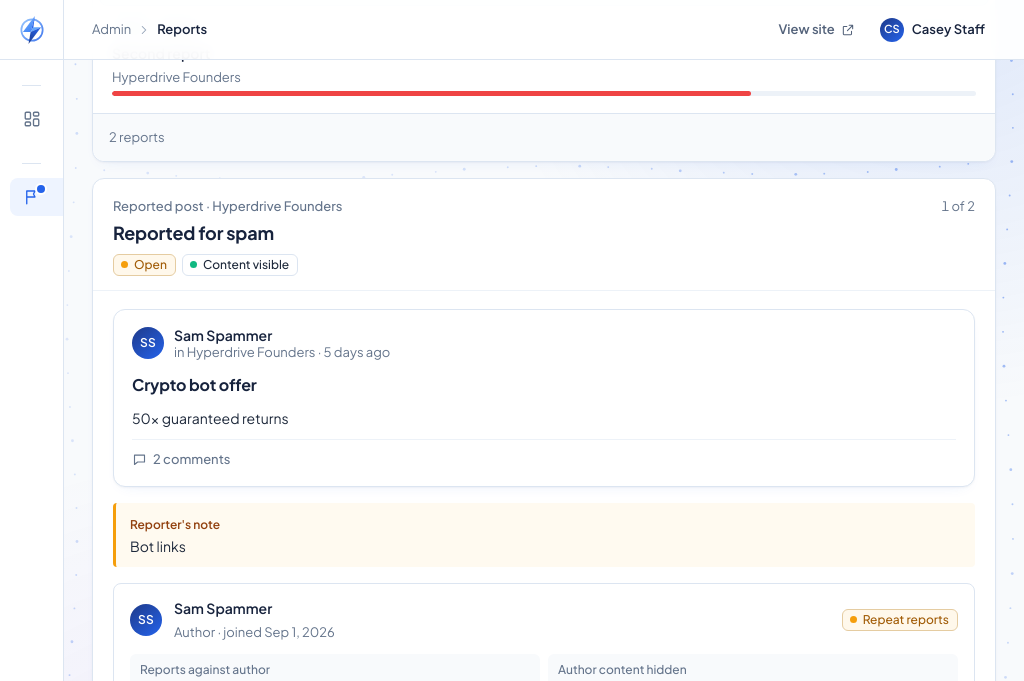
Test: console v2 › moves through the triage queue with J and K and opens actions with shortcuts
The image size is (1024, 681).
(page scrolled)
Expected: the heading "Crypto bot offer" is shown, [132,374,257,395]
Step 1. Type keys "j"
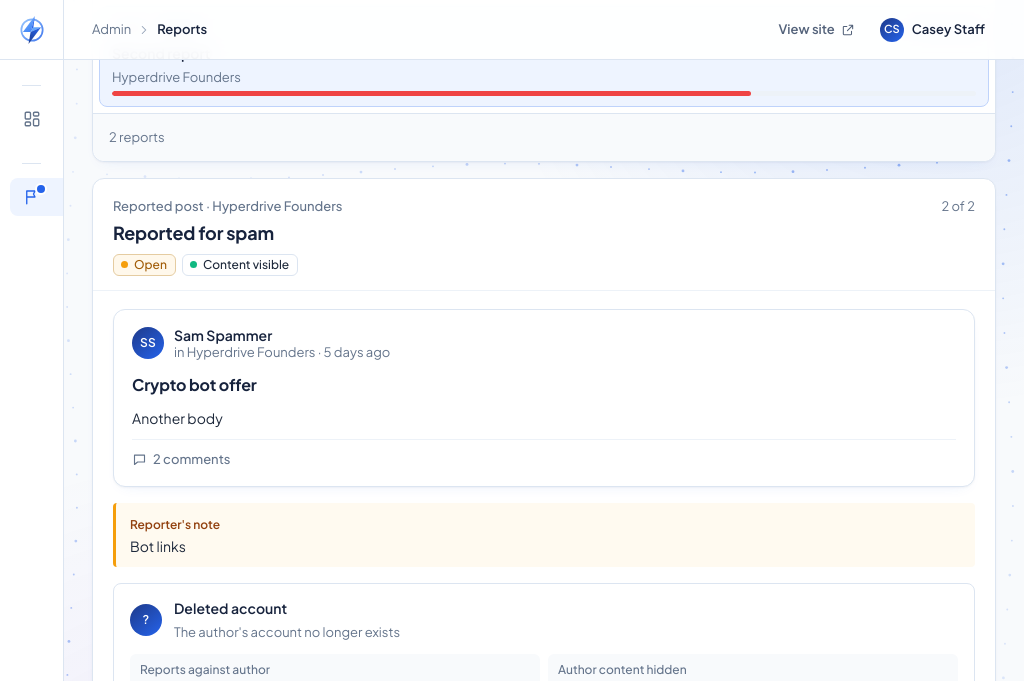
Result: the text "Another body" is shown at [132,409,223,427]
Result: the text "Deleted account" is shown at [174,598,287,619]
Step 2. Type keys "k"
(page scrolled)
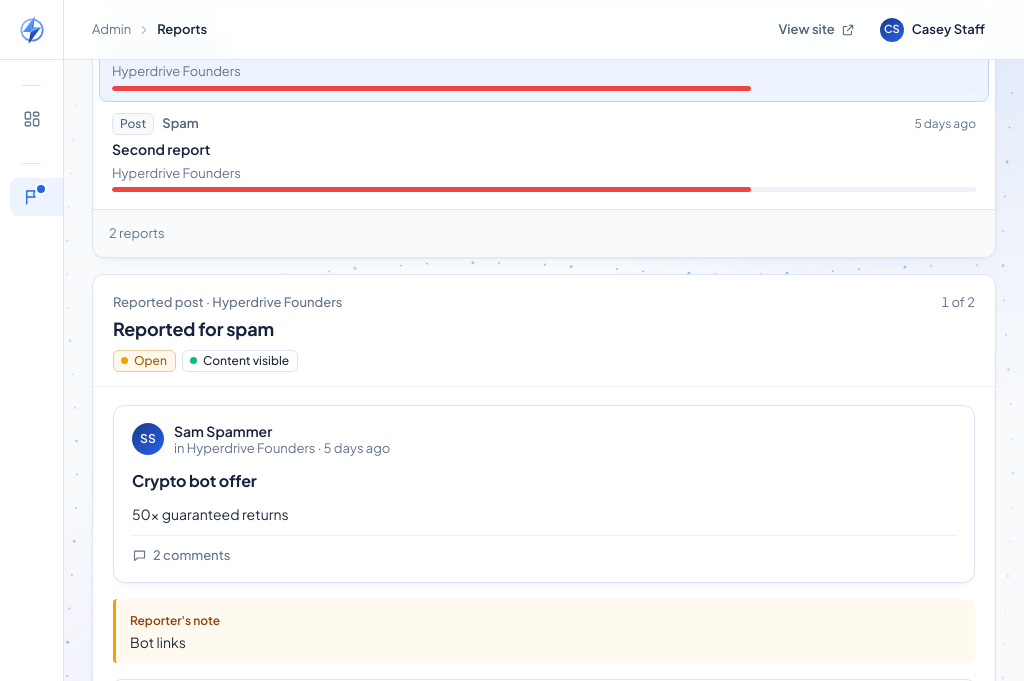
Result: the text "50x guaranteed returns" is shown at [132,505,289,523]
Result: the text "Another body" is gone
Step 3. Type keys "h"
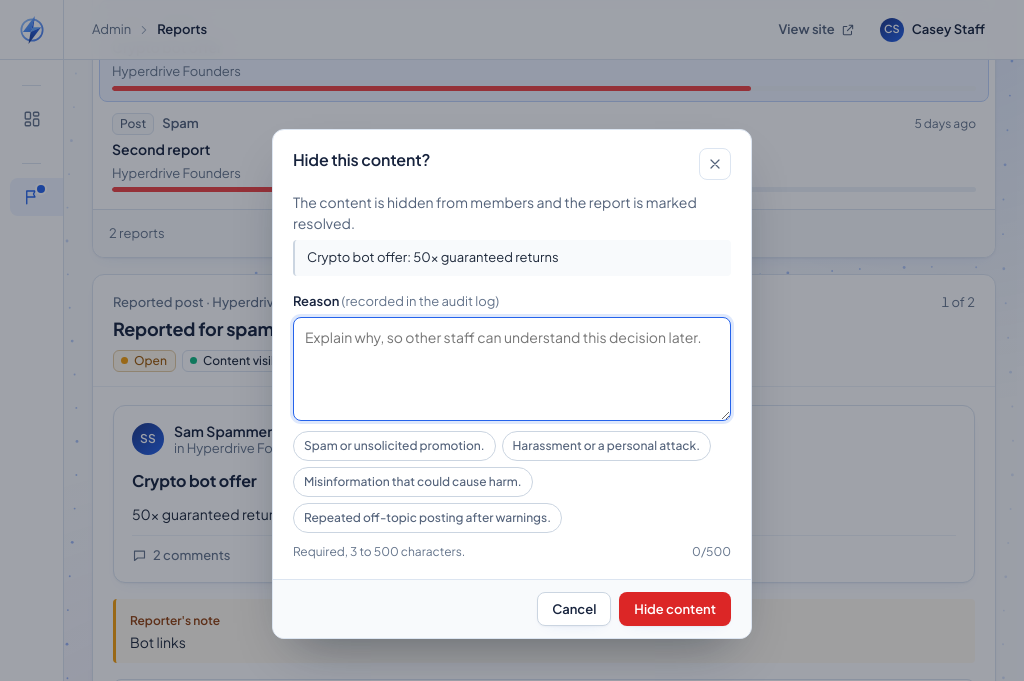
// Reason templates fill the reason in one click.
Step 4. Click the button "Spam or unsolicited promotion." → (394, 446), box [293,431,496,461]
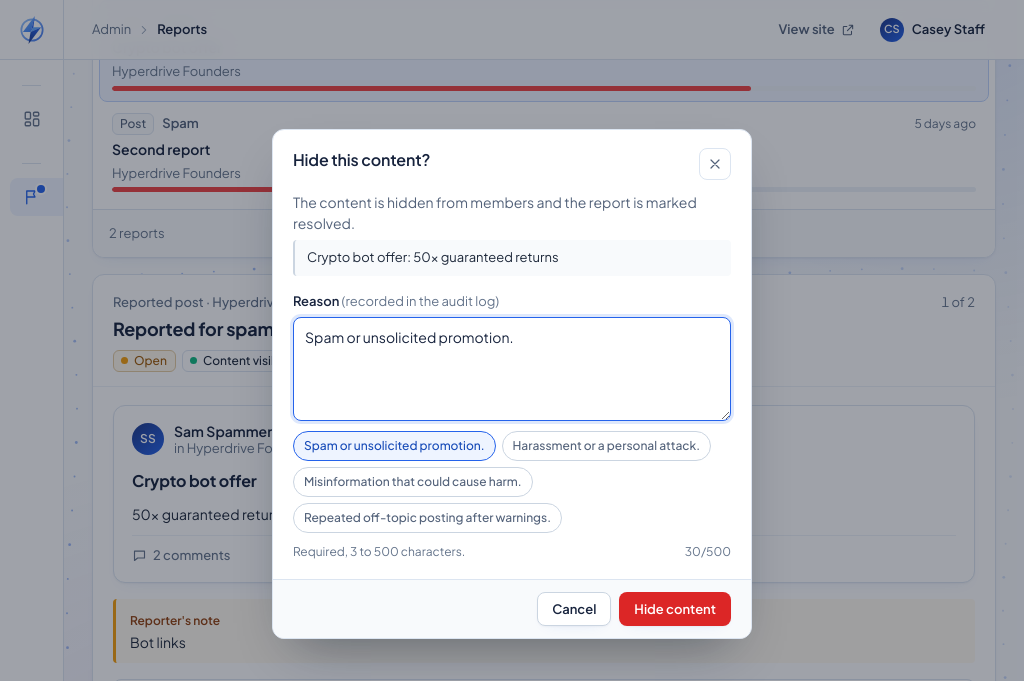
Result: the text box labelled "Reason (recorded in the audit log)" holds "Spam or unsolicited promotion." at [293,317,731,421]
// Shortcuts are ignored while a dialog is open.
Step 5. Press Escape
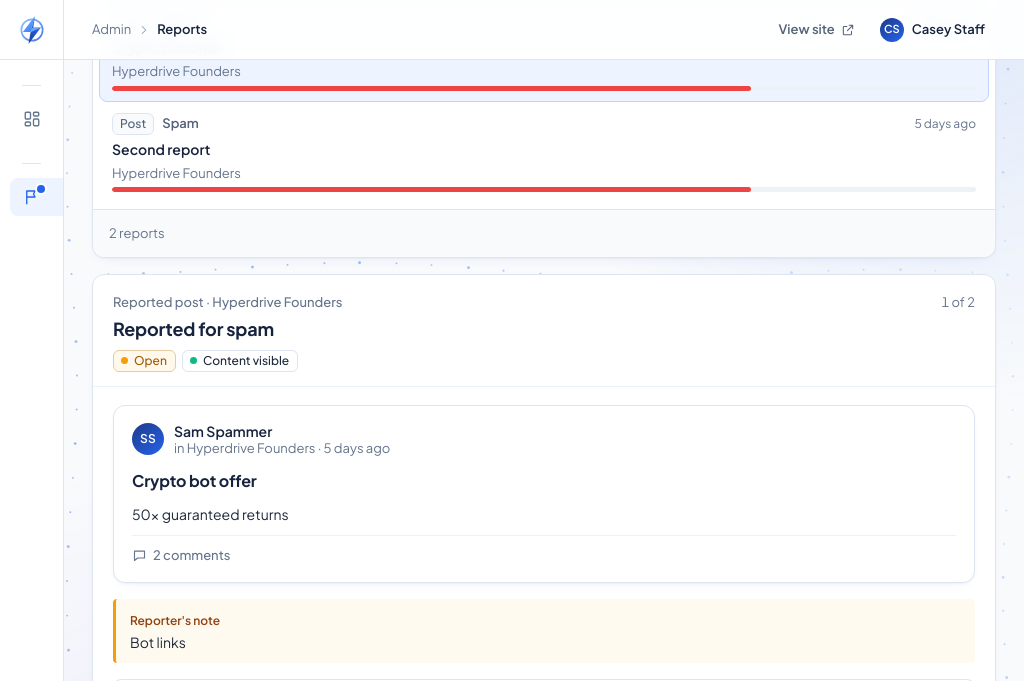
Result: the dialog is gone
